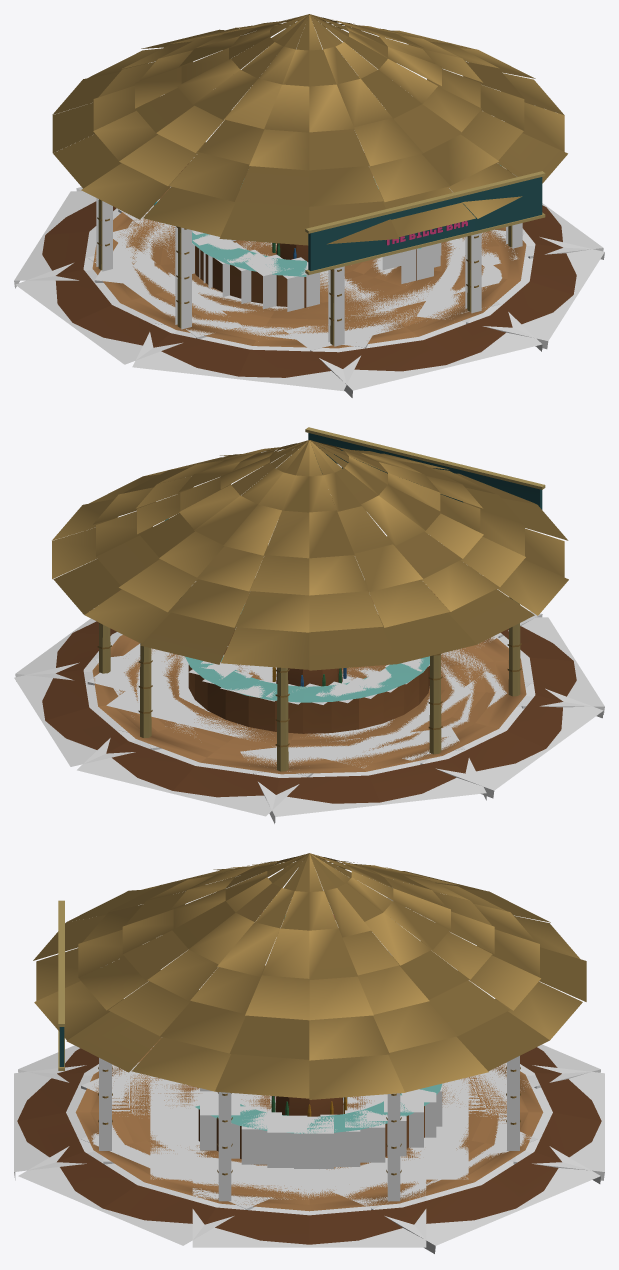
Rendered from beach_bar.glb.
3 views of the same model, one above another, from view 1: azimuth 30°, elevation 25°; view 2: azimuth 150°, elevation 25°; view 3: azimuth 270°, elevation 25° (orthographic). The views are drawn at different scales.
Parts seen in each view (by area): view 1: beach_bar, COL_0, COL_1, COL_15, COL_14, COL_13, COL_3, COL_11, COL_4, COL_2, COL_20, COL_46 (+9 smaller); view 2: beach_bar, COL_0, COL_11, COL_9, COL_13, COL_7, COL_15, COL_12, COL_6, COL_14, COL_5, COL_16; view 3: beach_bar, COL_0, COL_5, COL_7, COL_3, COL_6, COL_9, COL_1, COL_42, COL_10, COL_43, COL_2 (+14 smaller).
Part boxes in pixels (left/top/right/bottom): beach_bar: left=42, top=14, right=576, bottom=377; COL_0: left=113, top=222, right=502, bottom=331; COL_1: left=310, top=304, right=542, bottom=397; COL_15: left=132, top=323, right=364, bottom=391; COL_14: left=88, top=246, right=242, bottom=338; COL_13: left=15, top=257, right=196, bottom=364; COL_3: left=466, top=233, right=604, bottom=349; COL_11: left=14, top=191, right=120, bottom=288; COL_4: left=416, top=229, right=523, bottom=322; COL_2: left=285, top=301, right=500, bottom=350; COL_20: left=175, top=226, right=191, bottom=329; COL_46: left=382, top=244, right=433, bottom=283; beach_bar: left=42, top=427, right=576, bottom=803; COL_0: left=106, top=649, right=487, bottom=768; COL_11: left=253, top=749, right=486, bottom=823; COL_9: left=77, top=730, right=307, bottom=816; COL_13: left=420, top=683, right=603, bottom=798; COL_7: left=14, top=659, right=150, bottom=766; COL_15: left=497, top=617, right=604, bottom=714; COL_12: left=240, top=727, right=464, bottom=773; COL_6: left=87, top=643, right=173, bottom=690; COL_14: left=377, top=672, right=530, bottom=763; COL_5: left=15, top=618, right=122, bottom=681; COL_16: left=441, top=648, right=523, bottom=707; beach_bar: left=17, top=853, right=601, bottom=1244; COL_0: left=150, top=1046, right=468, bottom=1179; COL_5: left=192, top=1199, right=426, bottom=1247; COL_7: left=371, top=1139, right=600, bottom=1253; COL_3: left=18, top=1139, right=245, bottom=1245; COL_6: left=192, top=1175, right=426, bottom=1199; COL_9: left=513, top=1064, right=604, bottom=1180; COL_1: left=14, top=1064, right=103, bottom=1180; COL_42: left=294, top=1116, right=333, bottom=1168; COL_10: left=460, top=1063, right=515, bottom=1161; COL_43: left=267, top=1115, right=307, bottom=1167; COL_2: left=103, top=1063, right=159, bottom=1164.
Size of the model in its own units: 18.2 by 9.45 by 18.2.
